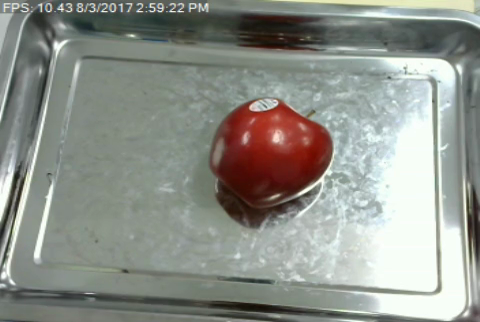Apple: (206, 91, 335, 211)
